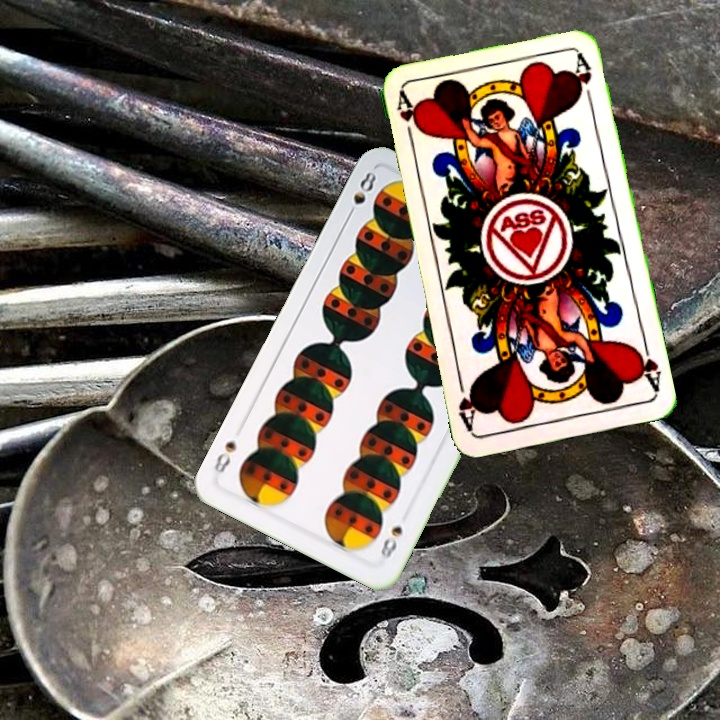HA: (630, 335, 663, 394), (392, 89, 423, 148)
S8: (342, 167, 379, 222), (376, 521, 406, 562)
